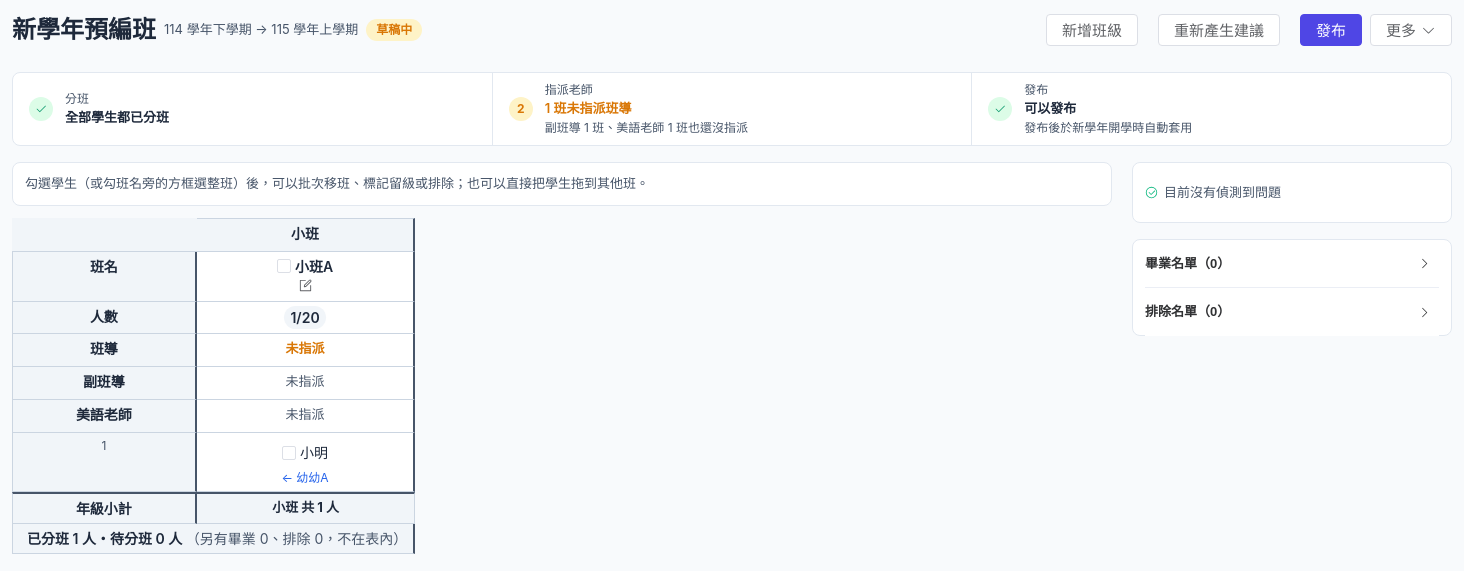
Test: YearPlanWorkspaceView › 批次工具列：勾選學生後選擇「移至班級」→ 呼叫 bulk API 帶正確 payload（含 base_version）
Click the 1st checkbox.
click(284, 266)  # box [277,259,291,273]
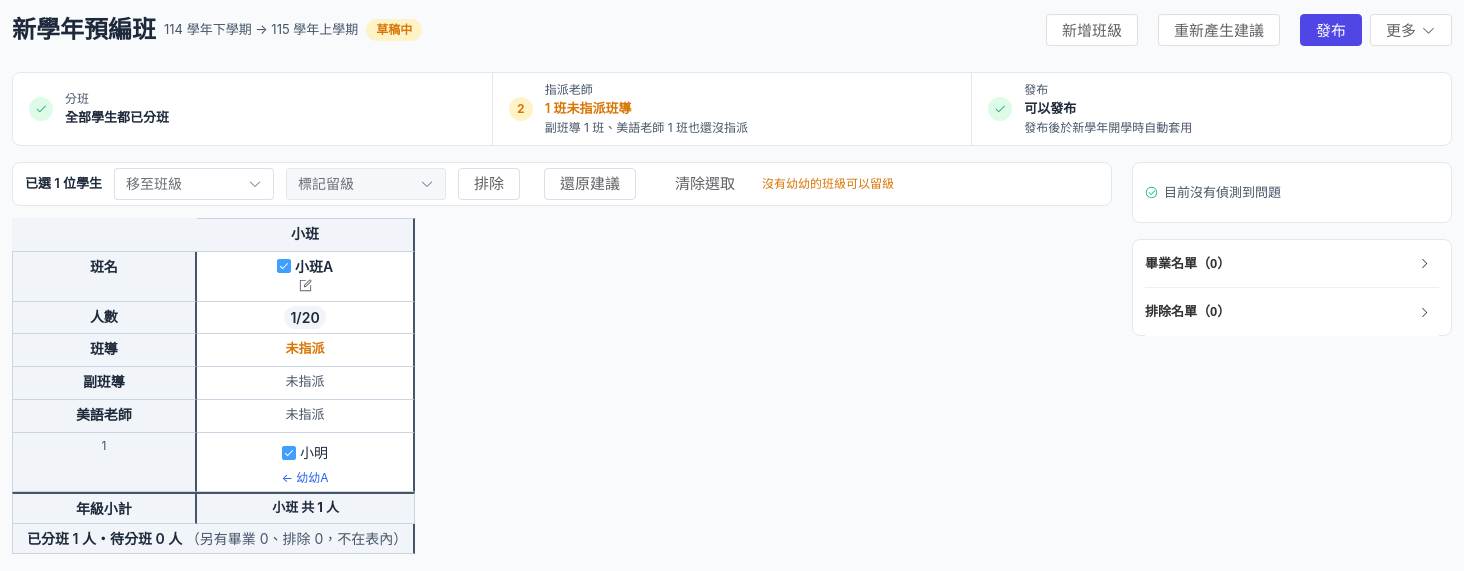
Now the element that starts with "已選 1 位學生" is shown, box [25,168,894,200]
